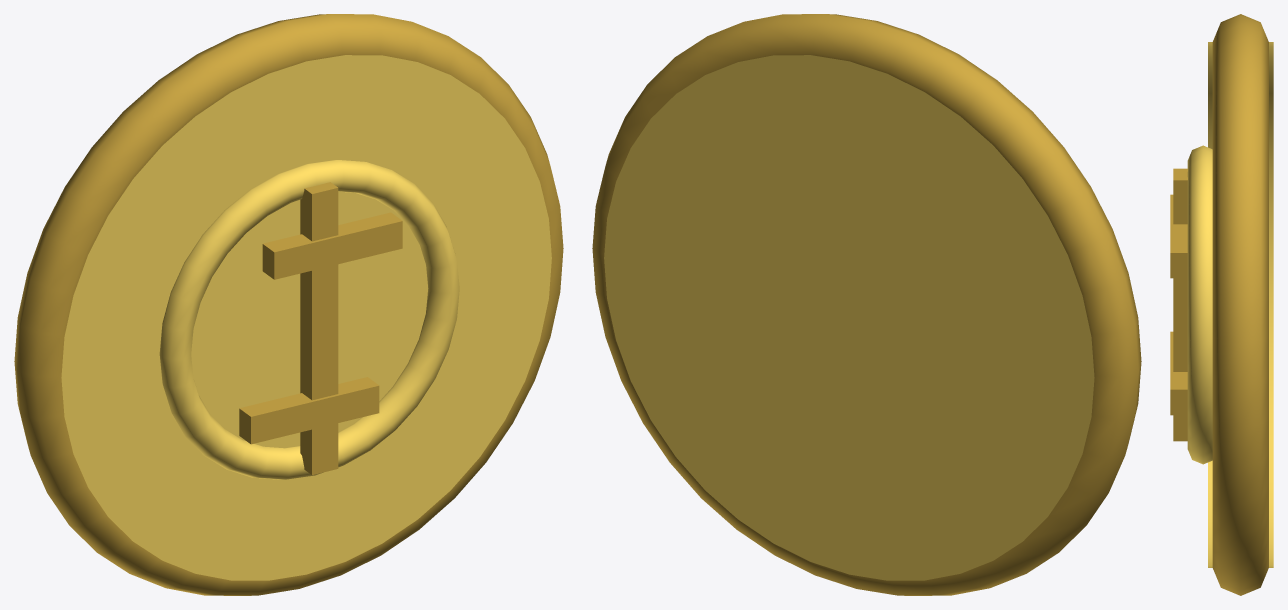
Rendered from coin.glb.
The picture shows the model from 3 angles, left to right: view 1: azimuth 30°, elevation 25°; view 2: azimuth 150°, elevation 25°; view 3: azimuth 270°, elevation 25°; orthographic projection. The views are drawn at different scales.
Parts seen in each view (by area): view 1: coin-disc, raised-rim, center-ring, score-mark-vertical, score-mark-top, score-mark-bottom; view 2: coin-disc, raised-rim; view 3: raised-rim, center-ring, coin-disc, score-mark-vertical, score-mark-top, score-mark-bottom.
Boxes of the visible parts, x1,y1,x2,y2 form: coin-disc: [61, 55, 551, 580]; raised-rim: [14, 14, 563, 595]; center-ring: [159, 160, 459, 479]; score-mark-vertical: [300, 182, 338, 475]; score-mark-top: [262, 212, 402, 279]; score-mark-bottom: [239, 377, 379, 444]; coin-disc: [604, 55, 1094, 580]; raised-rim: [592, 14, 1141, 595]; raised-rim: [1212, 14, 1268, 595]; center-ring: [1187, 145, 1212, 464]; coin-disc: [1208, 42, 1273, 567]; score-mark-vertical: [1173, 168, 1187, 441]; score-mark-top: [1170, 194, 1187, 278]; score-mark-bottom: [1170, 331, 1187, 415].
Size of the model in its own units: 0.93 by 0.93 by 0.165.
